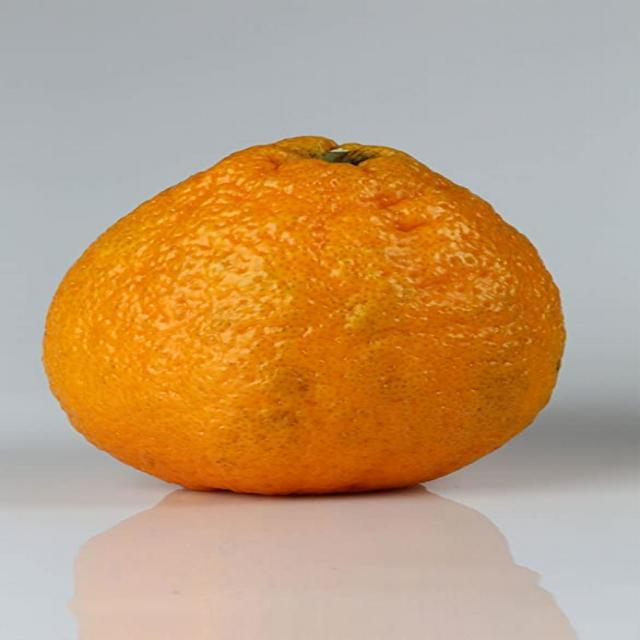Orange: (36, 132, 570, 500)
